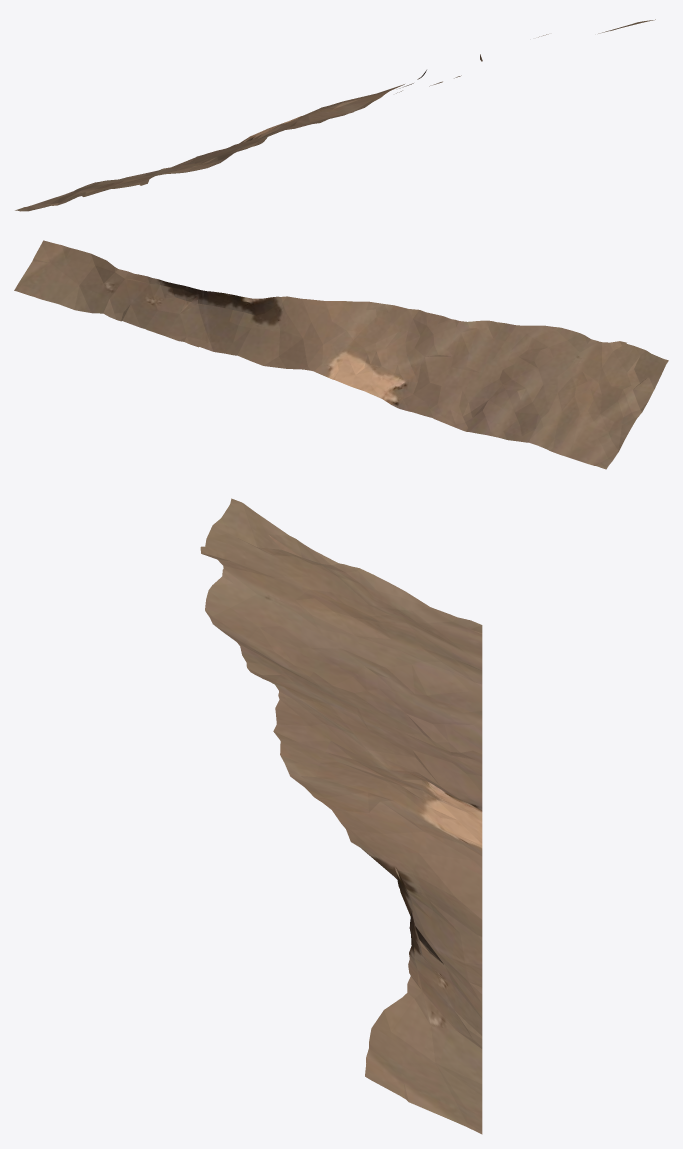
3 renders of one model, top to bottom at view 1: azimuth 30°, elevation 25°; view 2: azimuth 150°, elevation 25°; view 3: azimuth 270°, elevation 25°, orthographic. The views are drawn at different scales.
Bounding box in the file's own units: 1.04 × 0.1066 × 0.2149.
1 material, 1 textured.
